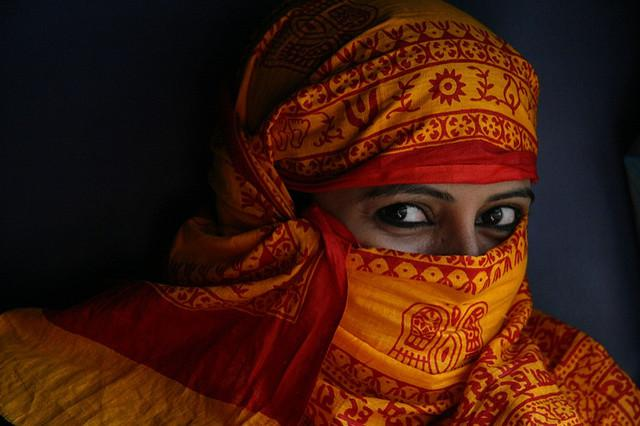OK: (325, 144, 543, 362)
